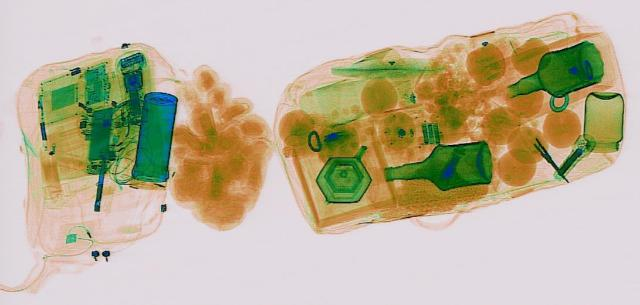Knife: (526, 137, 574, 182)
